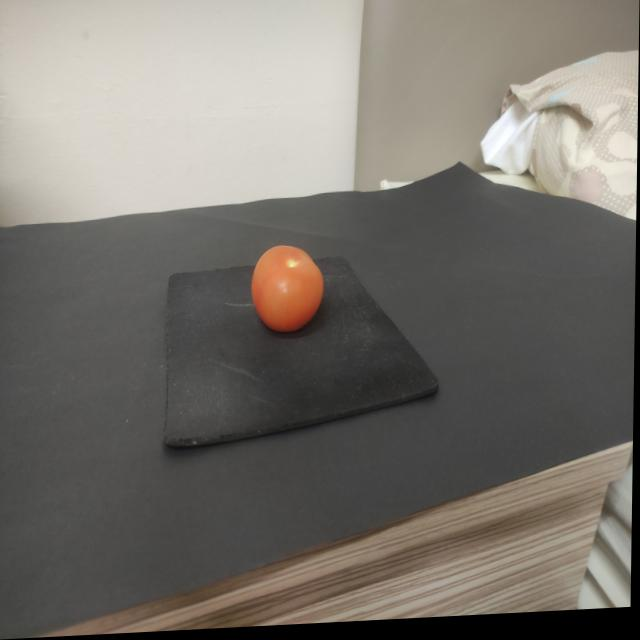sari: (242, 231, 339, 353)
